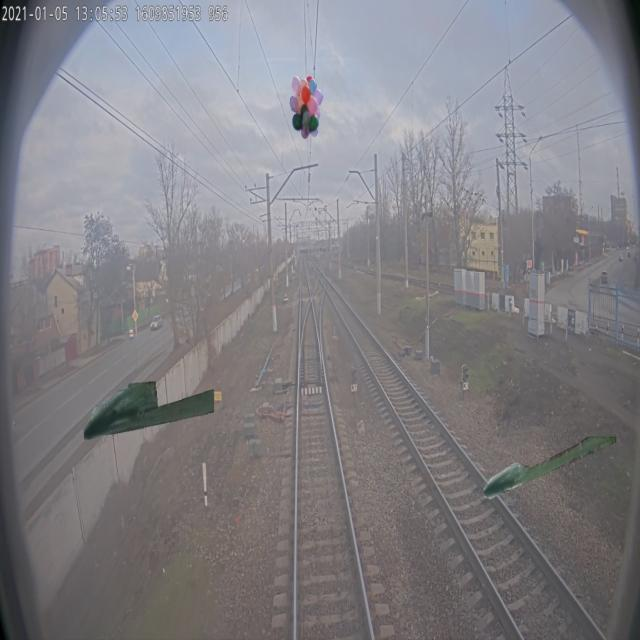balloon: (289, 76, 323, 140)
floating object: (483, 436, 618, 501), (84, 378, 214, 442)
